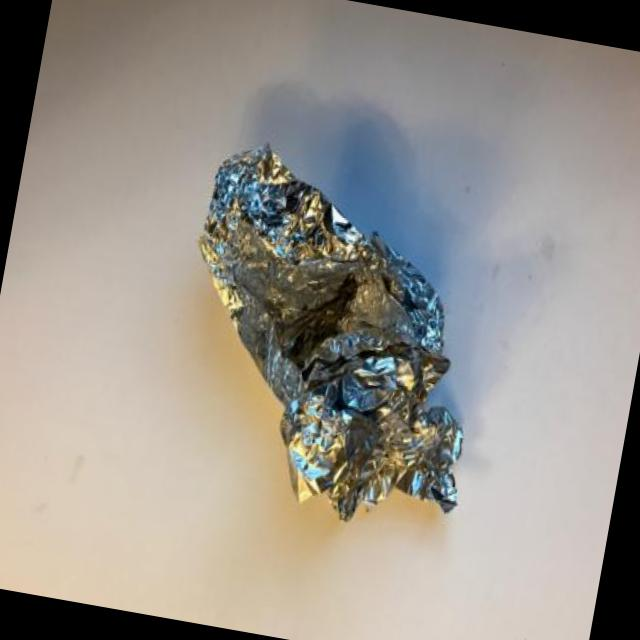nhom: (197, 143, 465, 524)
